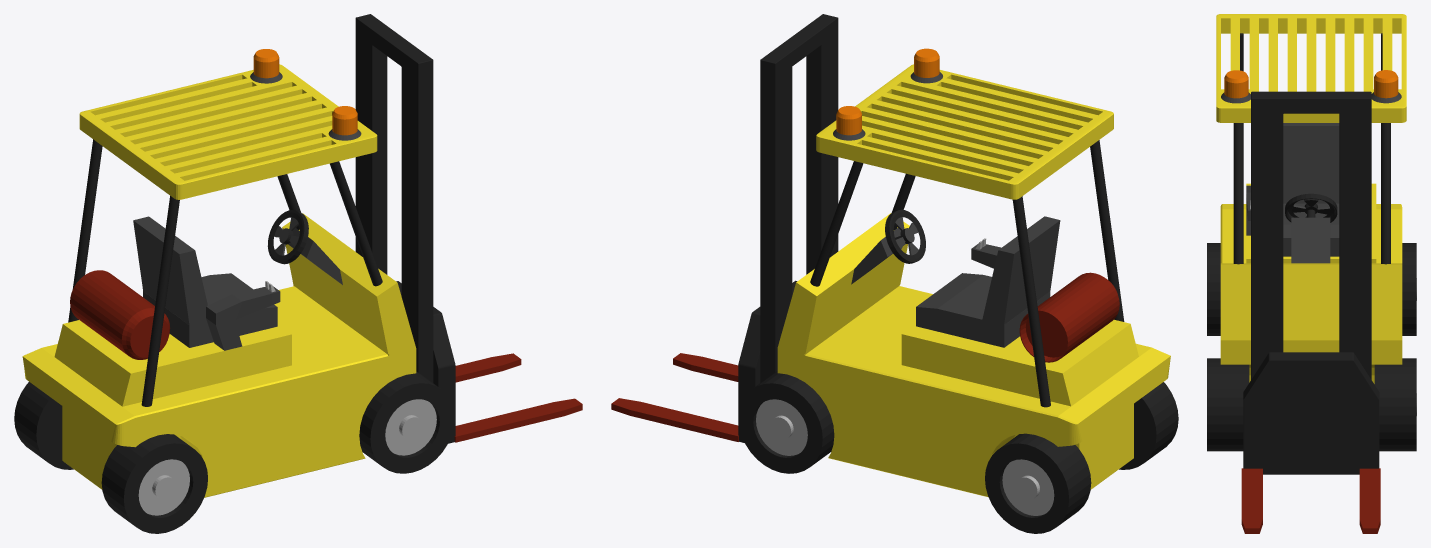
3 renders of one model, left to right at view 1: azimuth 30°, elevation 25°; view 2: azimuth 150°, elevation 25°; view 3: azimuth 270°, elevation 25°, orthographic. The views are drawn at different scales.
Parts seen in each view (by area): view 1: Gabelstapler_4; view 2: Gabelstapler_4; view 3: Gabelstapler_4.
Boxes of the visible parts, box(x1,y1,x2,y2) form: Gabelstapler_4: box(14, 14, 582, 533); Gabelstapler_4: box(611, 14, 1178, 533); Gabelstapler_4: box(1207, 14, 1416, 533).
Bounding box in the file's own units: 7.74 × 5.95 × 3.07.
Materials: 1 (1 with a texture image).
